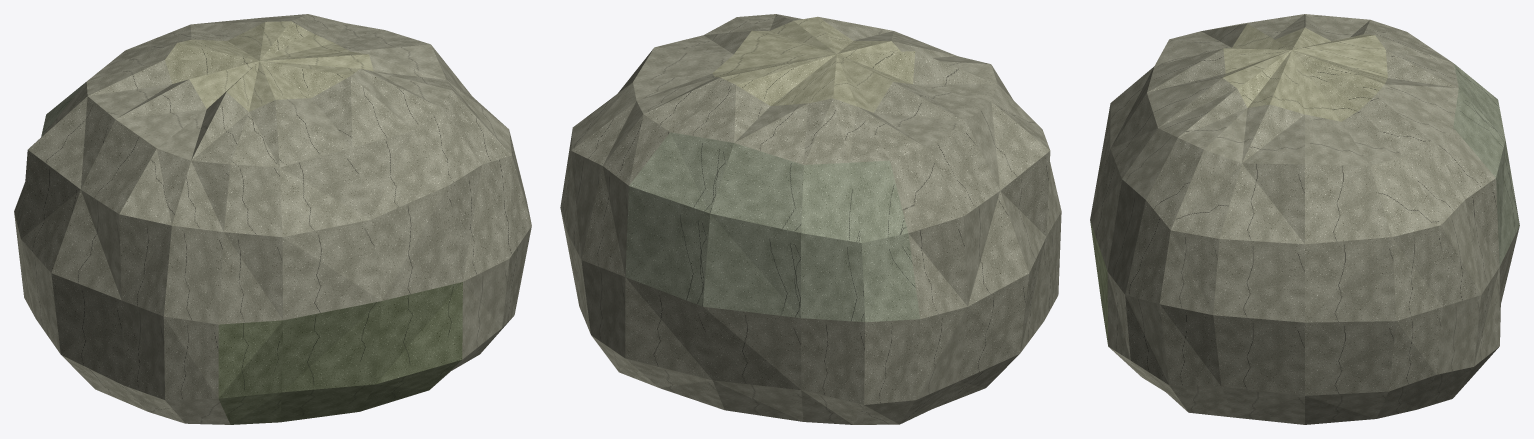
The model's file is SM_QD_UrbanRock_E_RoundedBoulder.fbx.
3 views of the same model, side by side, from view 1: azimuth 30°, elevation 25°; view 2: azimuth 150°, elevation 25°; view 3: azimuth 270°, elevation 25° (orthographic). The views are drawn at different scales.
Parts seen in each view (by area): view 1: SM_QD_UrbanRock_E_RoundedBoulder; view 2: SM_QD_UrbanRock_E_RoundedBoulder; view 3: SM_QD_UrbanRock_E_RoundedBoulder.
Part boxes in pixels (x1,y1,x2,y2): SM_QD_UrbanRock_E_RoundedBoulder: (14, 14, 531, 424); SM_QD_UrbanRock_E_RoundedBoulder: (560, 14, 1061, 424); SM_QD_UrbanRock_E_RoundedBoulder: (1090, 14, 1519, 424).
Size of the model in its own units: 4.2 by 3.7 by 2.7.
1 material, 1 textured.
